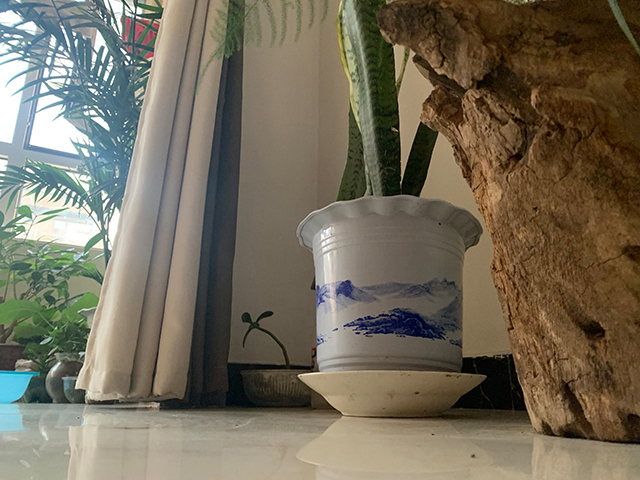curtain: (70, 1, 223, 405)
